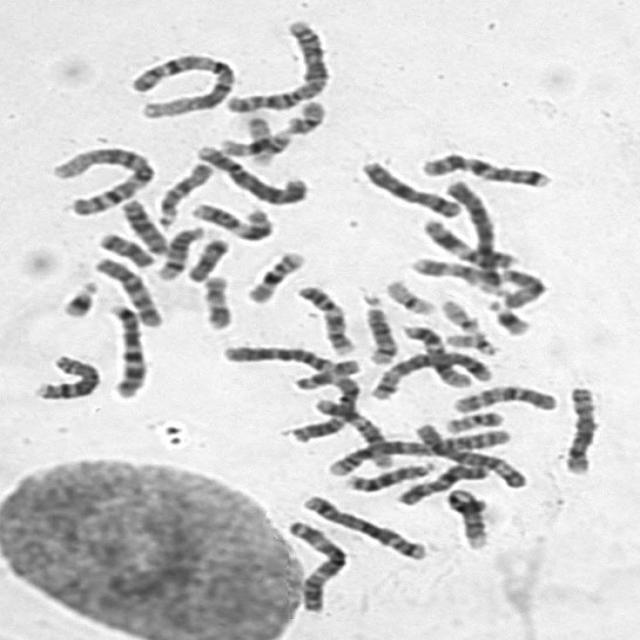A1: (41, 139, 157, 216), (122, 46, 241, 120)
A2: (218, 12, 332, 114), (320, 423, 516, 478)
A3: (277, 513, 351, 614), (278, 360, 364, 444)
B4: (187, 138, 311, 206), (438, 173, 504, 295)
B5: (294, 488, 429, 562), (362, 343, 496, 401)
C10: (86, 250, 166, 329), (444, 378, 560, 414)
C11: (415, 212, 520, 269), (182, 195, 276, 242)
C12: (306, 392, 397, 471), (394, 318, 474, 388)
C6: (408, 416, 530, 489), (214, 338, 357, 392)
C7: (414, 146, 554, 190), (100, 297, 150, 400)
C8: (556, 379, 602, 476), (26, 348, 103, 402)
C9: (289, 278, 357, 356), (437, 482, 492, 550)
D13: (112, 192, 172, 256), (338, 456, 439, 492)
D14: (149, 219, 208, 281), (357, 298, 400, 367)
D15: (149, 156, 216, 228), (491, 262, 549, 310)
E16: (237, 244, 309, 305), (212, 126, 292, 158)
E17: (404, 250, 506, 291), (194, 268, 236, 331)
E18: (90, 226, 158, 268), (178, 232, 232, 283)
F19: (377, 273, 439, 316), (238, 110, 278, 166)
F20: (437, 404, 507, 434), (278, 94, 328, 135)
G21: (480, 295, 533, 337), (53, 274, 101, 319)
G22: (433, 293, 484, 334), (438, 326, 501, 355)
X: (352, 154, 464, 219), (389, 457, 492, 506)
